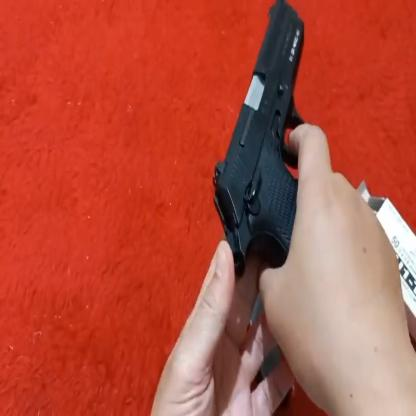handgun: (211, 0, 311, 279)
